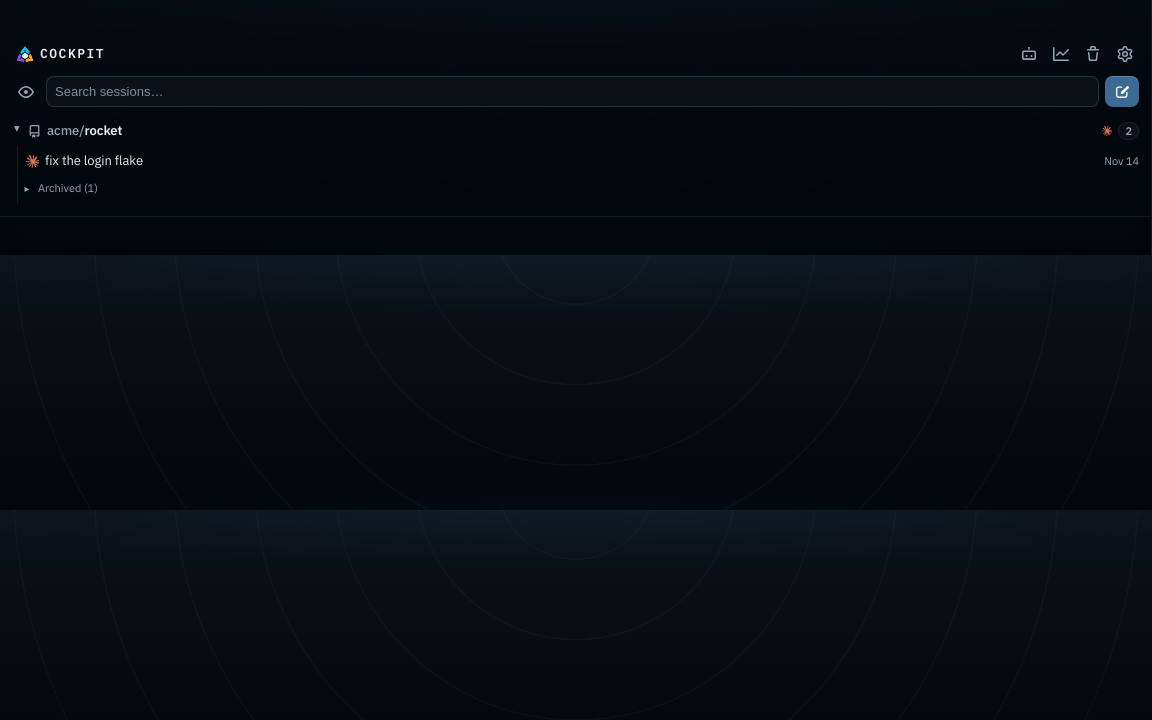
Test: session rows state that is not colour-coded › announces an archived session, which is otherwise only struck through
Expected: the list item "fix the login flake Nov 14" does not show "archived", [26,152,1139,169]
Step 1. Click the list item "▸ Archived (1)" → (68, 188), box [18,176,1145,200]
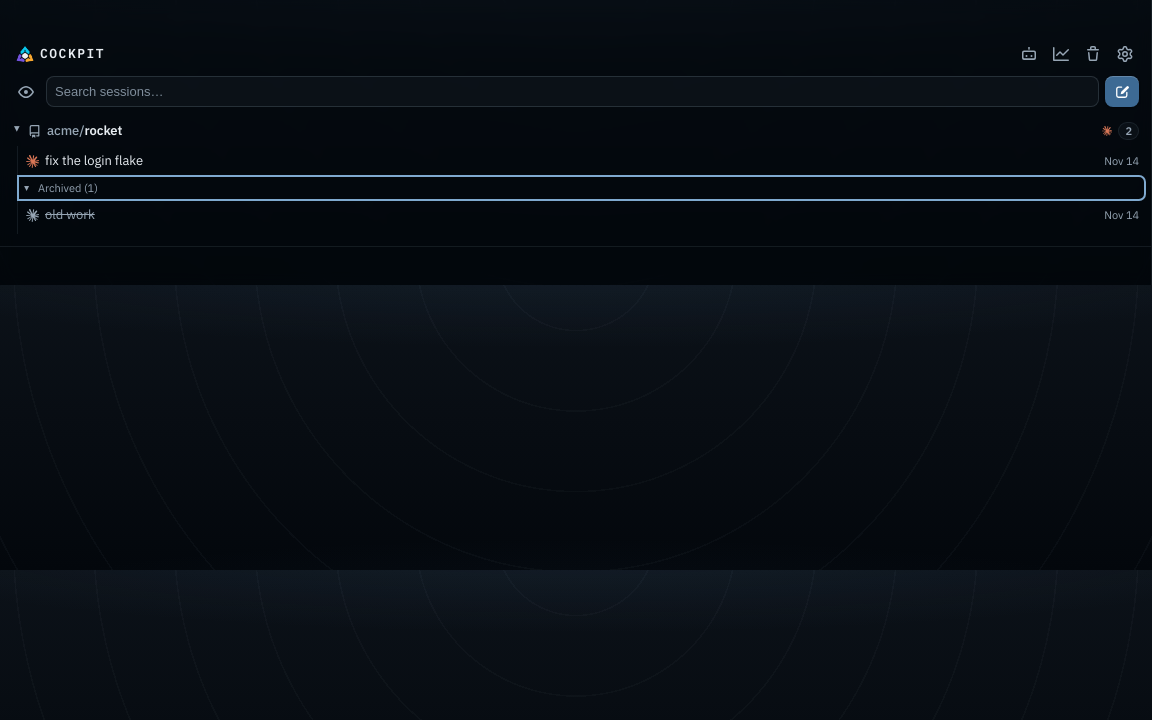
Expected: the list item "old work Nov 14" is shown, [18,200,1145,230]
